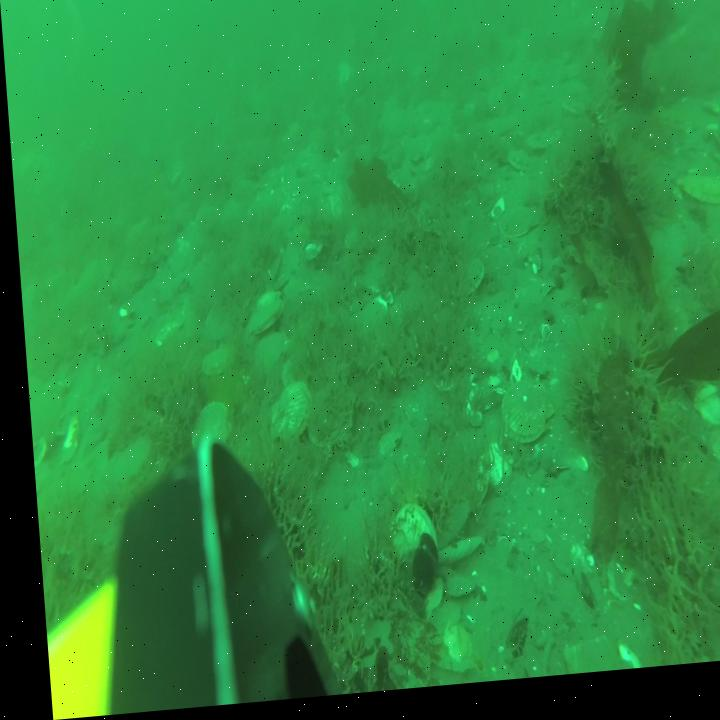scallop: (492, 381, 549, 456), (382, 507, 432, 586), (261, 388, 309, 452), (249, 336, 290, 391), (678, 177, 720, 227), (187, 404, 226, 456), (494, 209, 539, 254), (238, 300, 280, 348), (450, 259, 483, 307), (195, 348, 232, 385), (523, 133, 561, 167), (504, 153, 528, 184)
